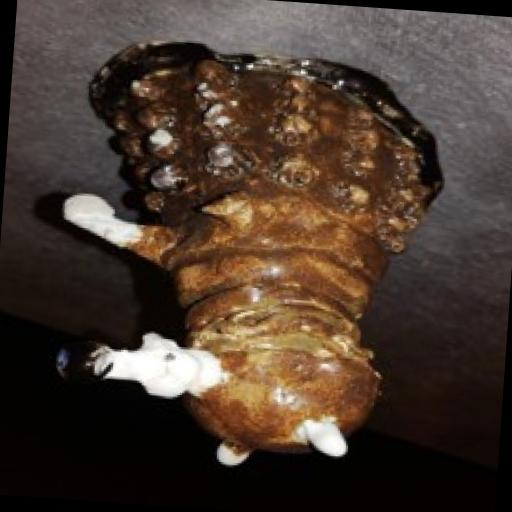dalek: (45, 21, 458, 486)
